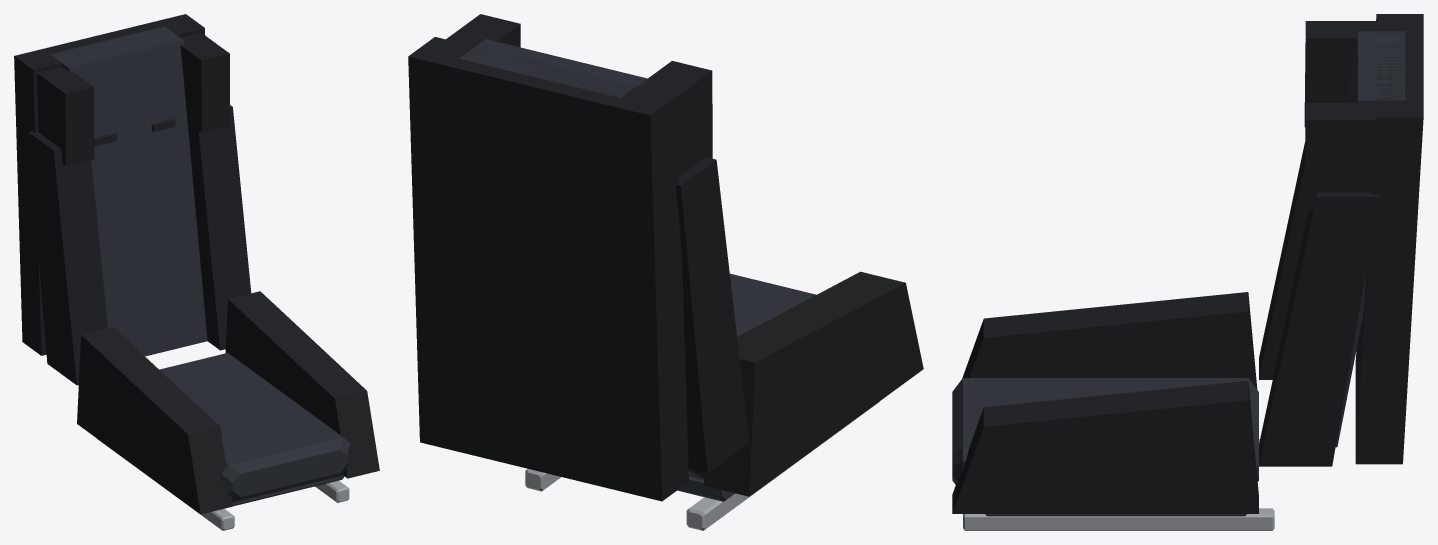
The model's file is strada_evo.glb.
The picture shows the model from 3 angles, left to right: view 1: azimuth 30°, elevation 25°; view 2: azimuth 150°, elevation 25°; view 3: azimuth 270°, elevation 25°; orthographic projection. The views are drawn at different scales.
Visible parts, largest first — view 1: model; view 2: model; view 3: model.
Boxes of the visible parts, x1,y1,x2,y2 form: model: (14,14,379,530); model: (408,14,923,530); model: (952,14,1423,530).
Bounding box in the file's own units: 0.4889 × 0.9 × 0.8995.
4 materials, 1 textured.
